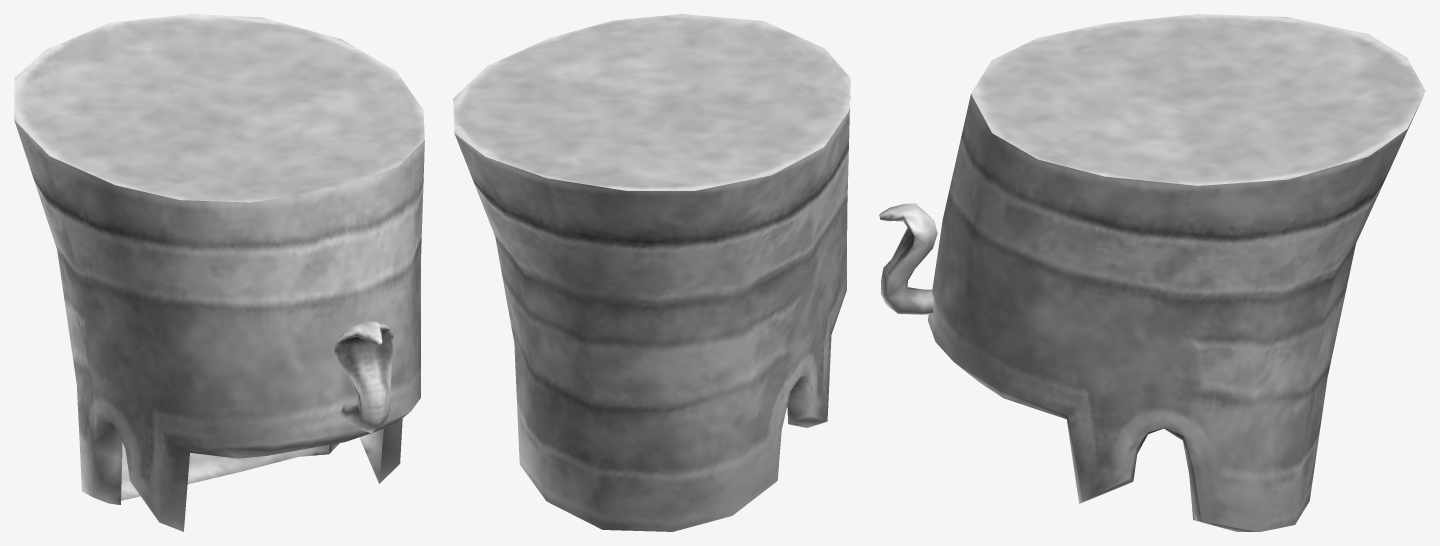
Rendered from rider-helmet-slice-championcamelriders.glb.
3 views of the same model, side by side, from view 1: azimuth 30°, elevation 25°; view 2: azimuth 150°, elevation 25°; view 3: azimuth 270°, elevation 25° (orthographic). The views are drawn at different scales.
Size of the model in its own units: 0.2697 by 0.3051 by 0.363.
Materials: 1 (1 with a texture image).
